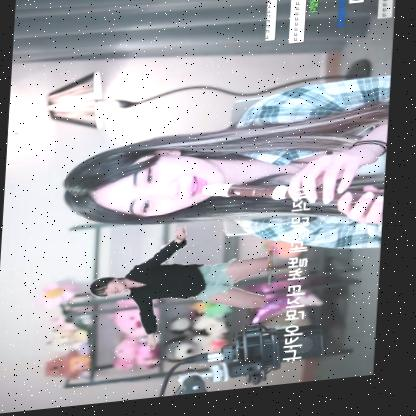donation: (87, 192, 315, 388)
streamer: (61, 85, 391, 283)
